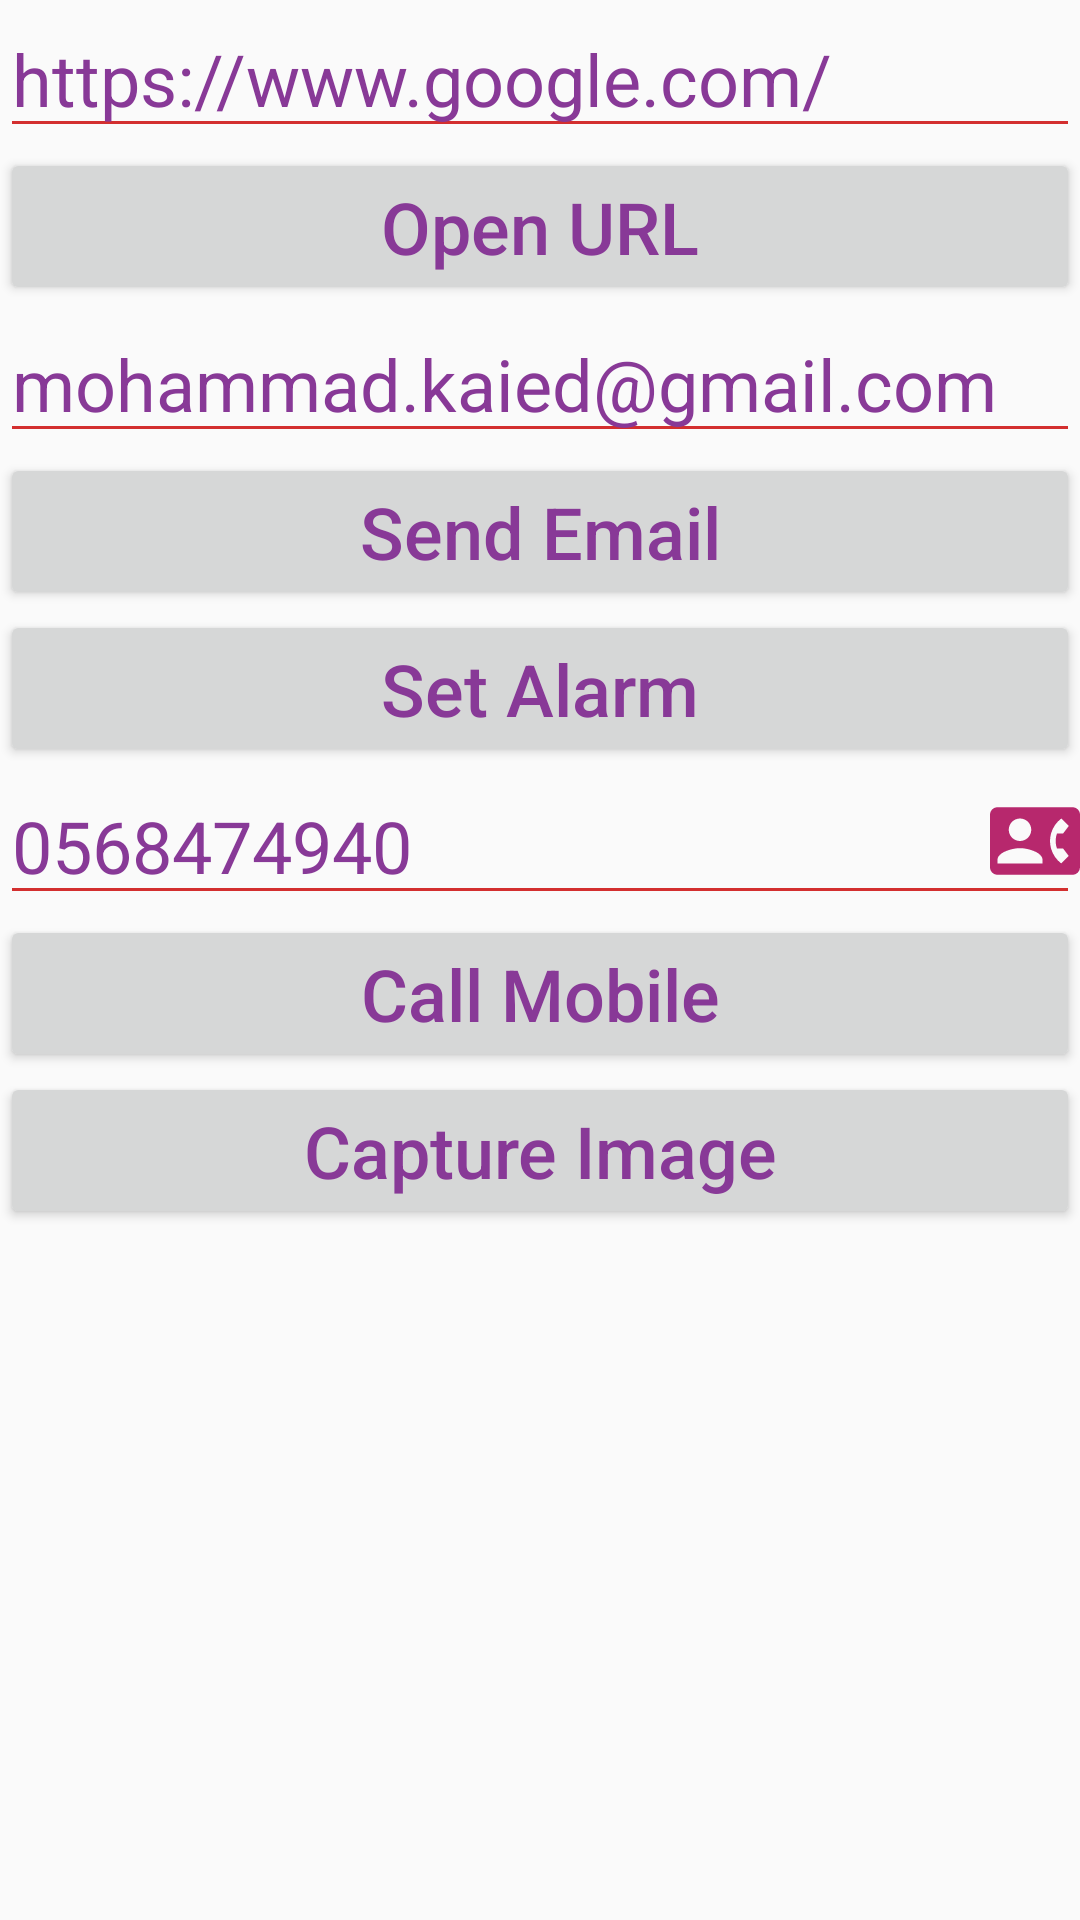

Icon click points for this 1080 × 1920 phone screenshot, format (x,y):
contact phone: (1035,841)
